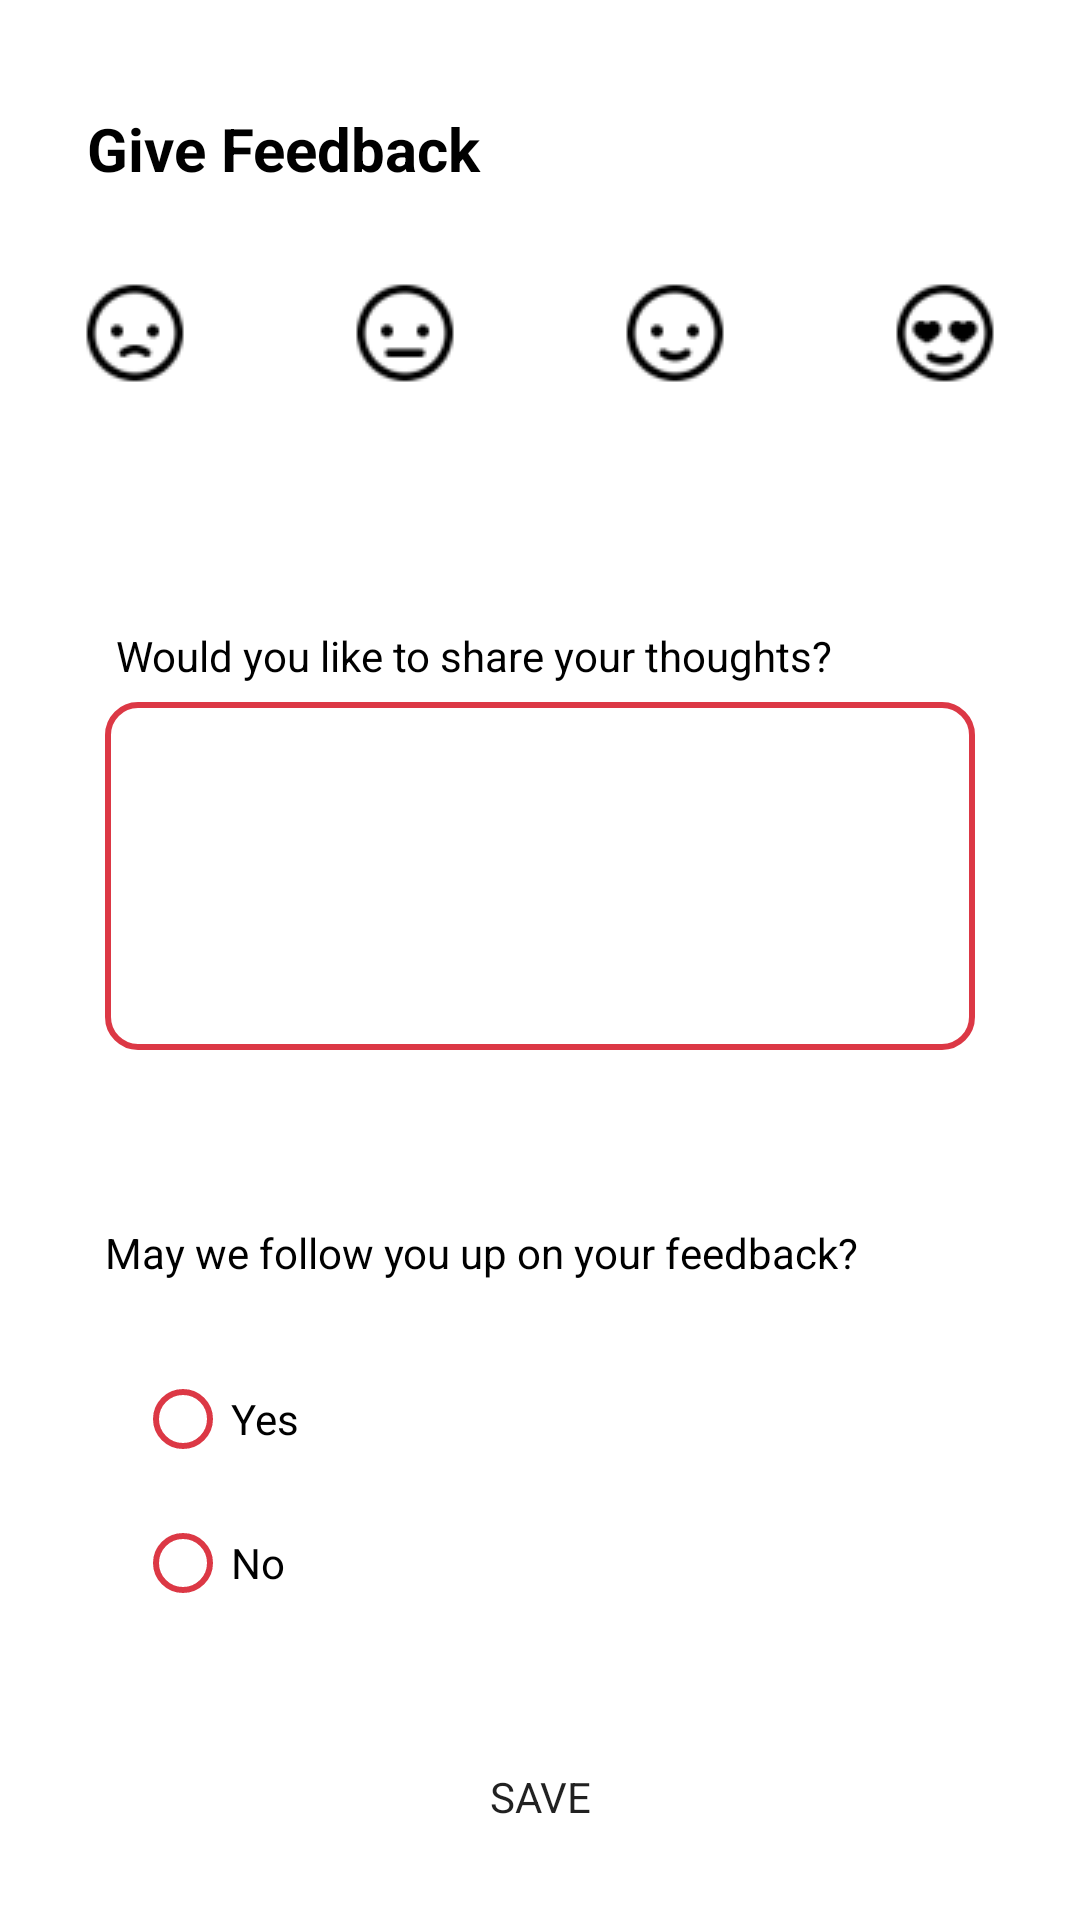

Named icons in this screenshot (1080*1920) and their bounding boxes, (x1, y1, x2, y2):
happy: (626, 284, 724, 382)
in love: (896, 284, 994, 382)
neutral: (356, 284, 454, 382)
sad: (86, 284, 184, 382)
